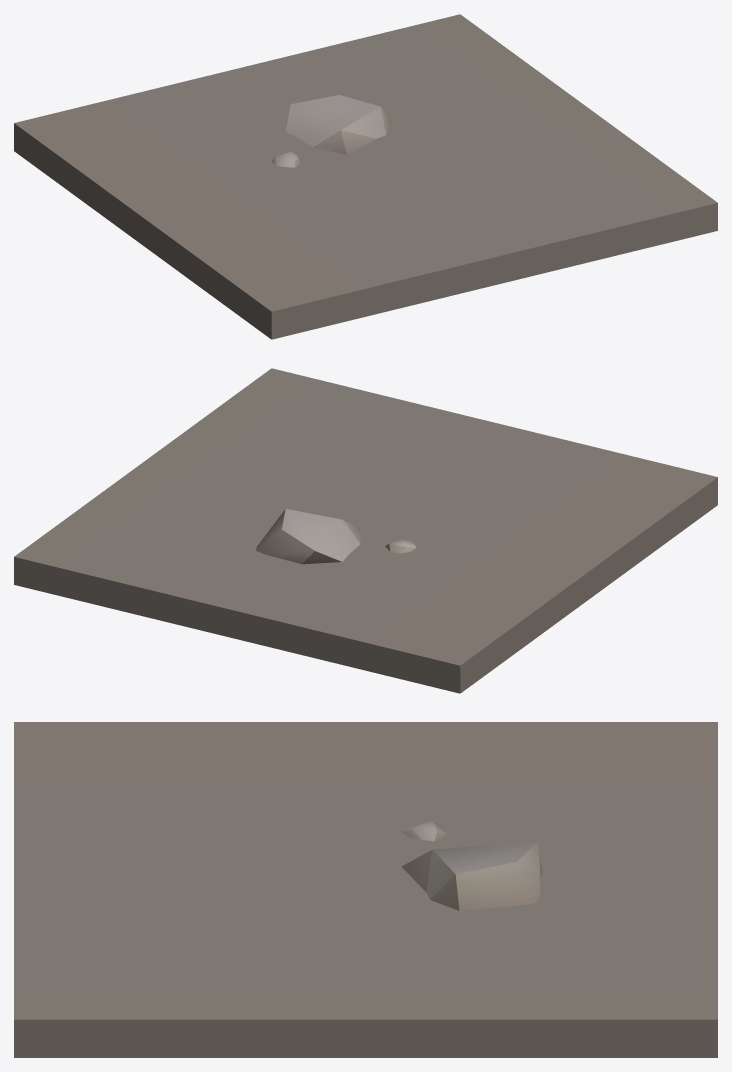
File: floor_dirt_small_c.glb
The picture shows the model from 3 angles, top to bottom: view 1: azimuth 30°, elevation 25°; view 2: azimuth 150°, elevation 25°; view 3: azimuth 270°, elevation 25°; orthographic projection. The views are drawn at different scales.
Visible parts, largest first — view 1: floor_dirt_small_C; view 2: floor_dirt_small_C; view 3: floor_dirt_small_C.
Part boxes in pixels (box(x1,y1,x2,y2)): floor_dirt_small_C: box(14, 14, 717, 339); floor_dirt_small_C: box(14, 368, 717, 693); floor_dirt_small_C: box(14, 722, 717, 1057).
Size of the model in its own units: 2 by 0.2085 by 2.
1 material, 1 textured.
